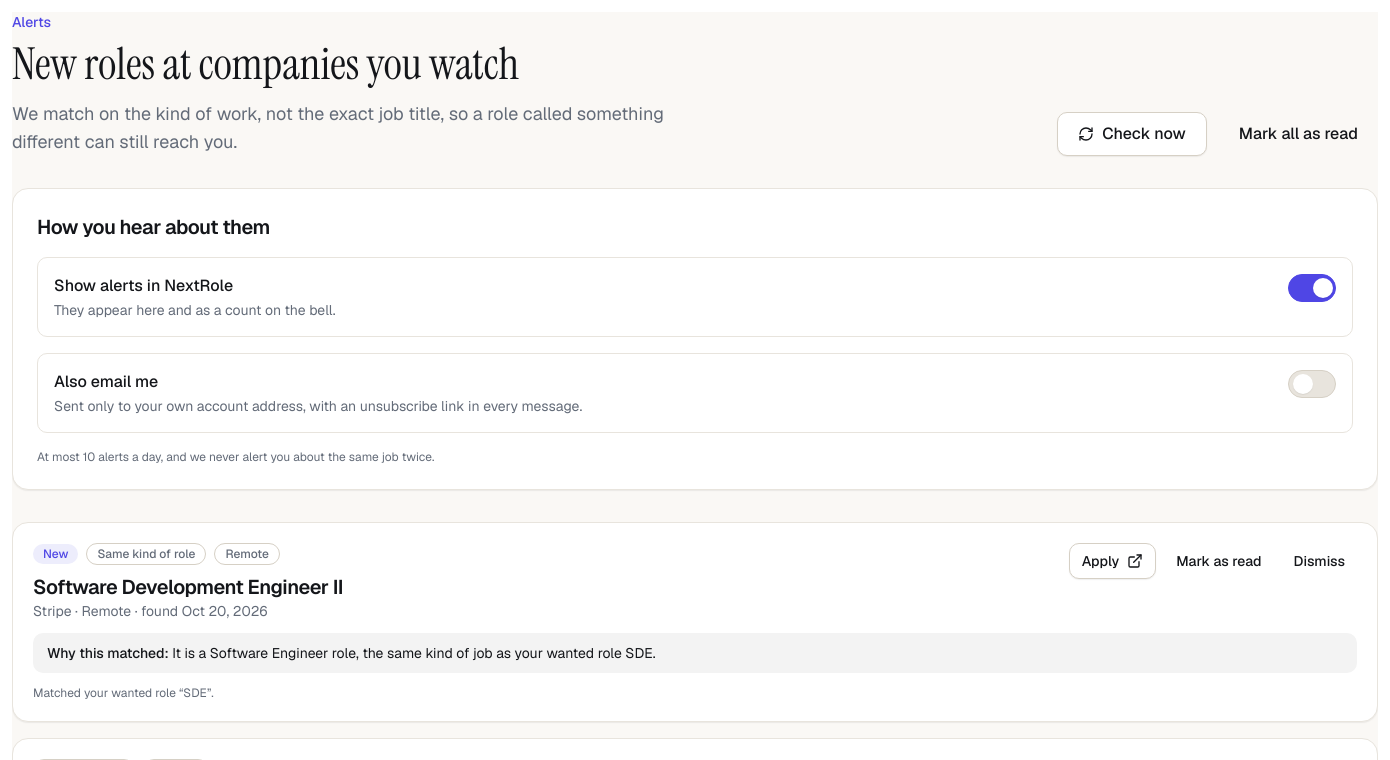
Scenario: Alerts page › checks now and reports what it found
Click the button "Check now".
click(1132, 134)  # box [1057, 112, 1207, 156]
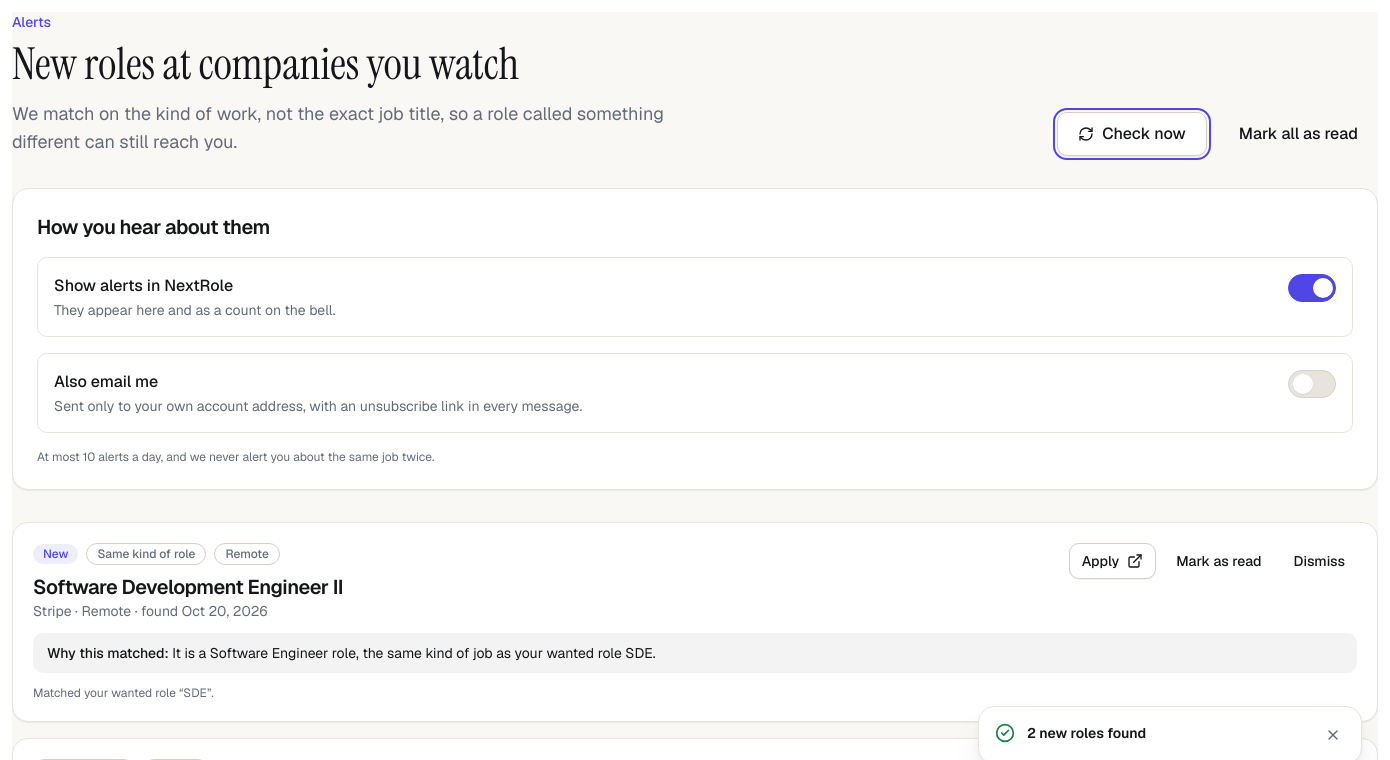
Check: the text "2 new roles found" is shown, box [1027, 724, 1146, 742]
